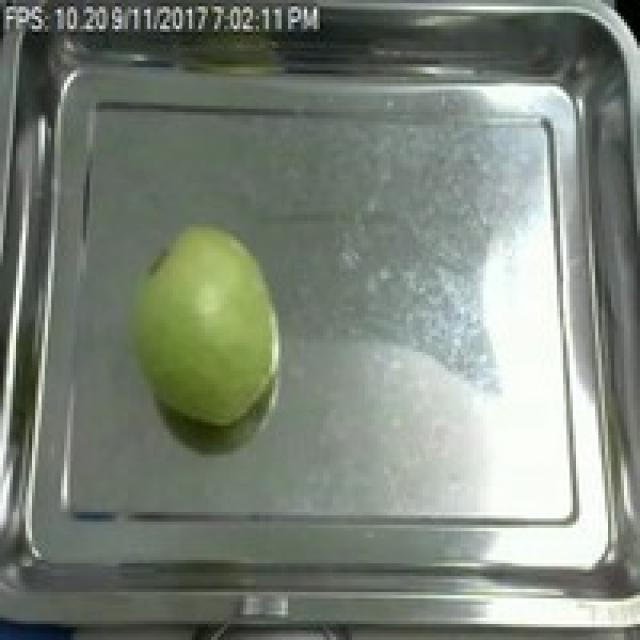Fruit: (115, 211, 291, 435)
